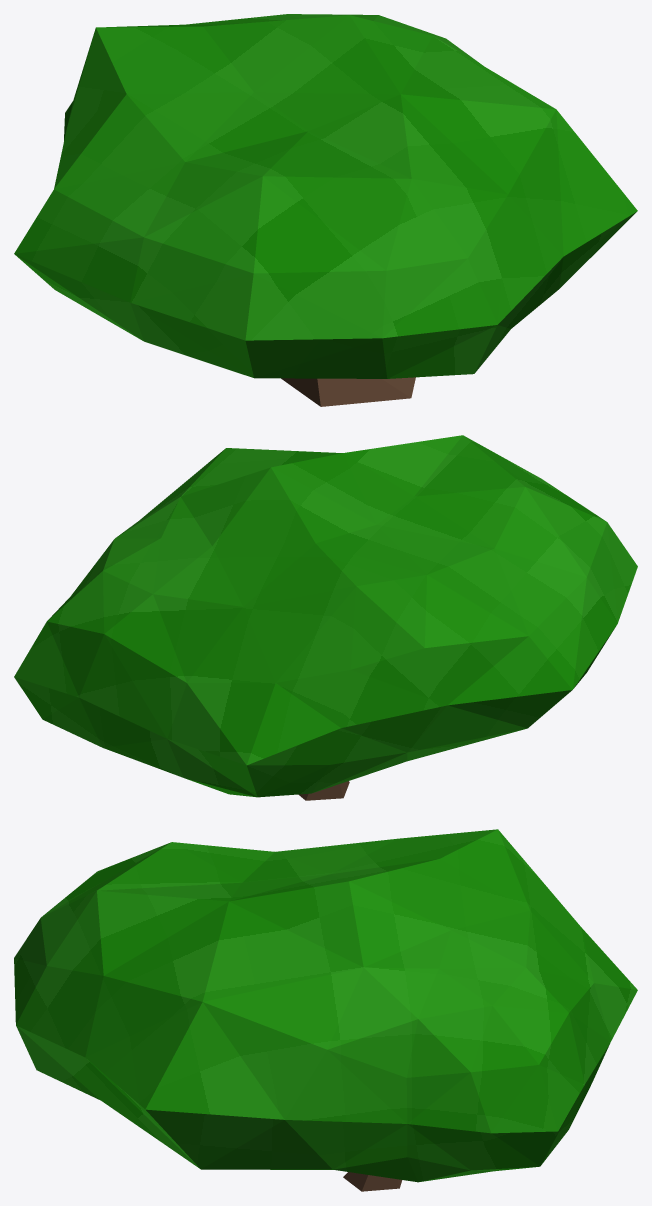
The model's file is Bush_01.fbx.
The picture shows the model from 3 angles, top to bottom: view 1: azimuth 30°, elevation 25°; view 2: azimuth 150°, elevation 25°; view 3: azimuth 270°, elevation 25°; orthographic projection. The views are drawn at different scales.
Visible parts, largest first — view 1: Bush_01; view 2: Bush_01; view 3: Bush_01.
Part boxes in pixels (x1,y1,x2,y2): Bush_01: [14, 14, 637, 406]; Bush_01: [14, 435, 637, 800]; Bush_01: [14, 829, 637, 1191].
Bounding box in the file's own units: 3.33 × 1.81 × 3.79.
1 material, 1 textured.
